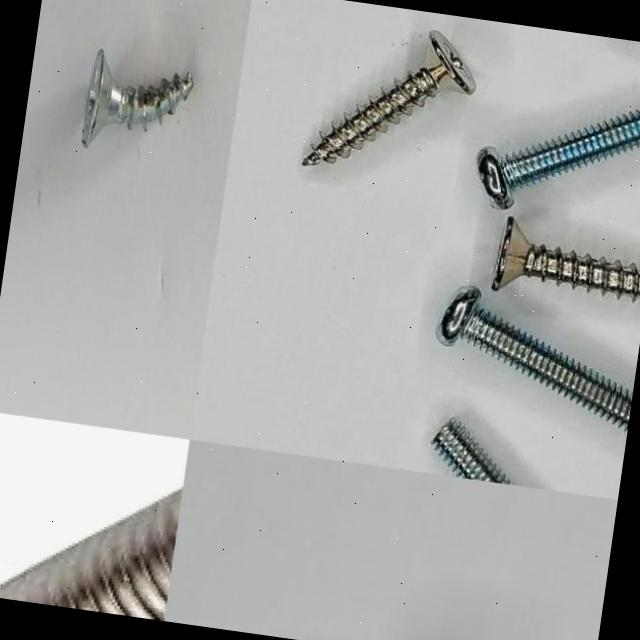Screw: (436, 287, 633, 433), (0, 480, 184, 621), (301, 30, 475, 166), (476, 110, 640, 210), (493, 217, 640, 301), (82, 51, 193, 149), (430, 419, 509, 485)
